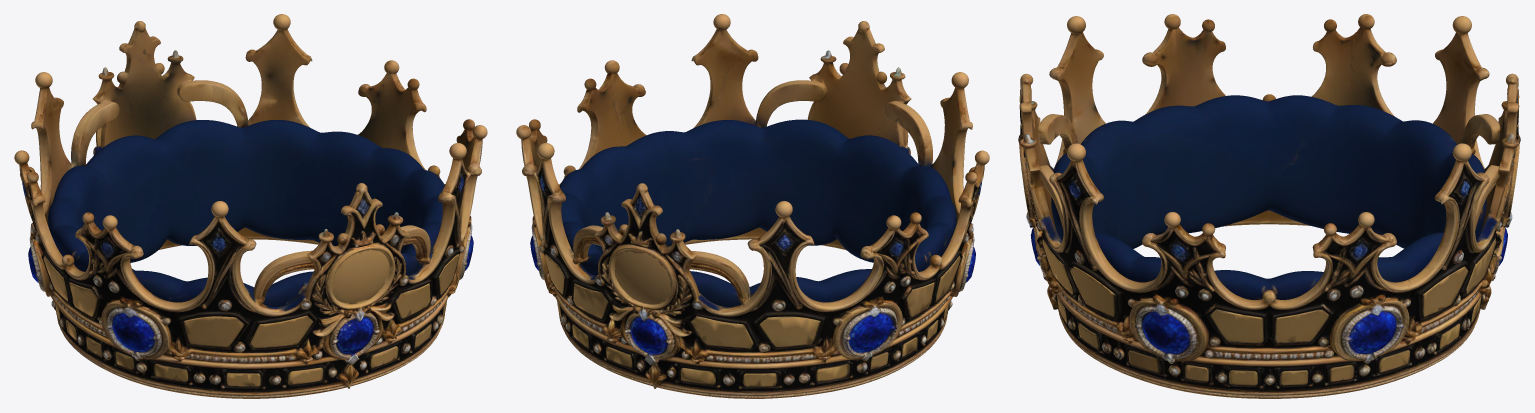
File: royal-crown.glb
3 renders of one model, left to right at view 1: azimuth 30°, elevation 25°; view 2: azimuth 150°, elevation 25°; view 3: azimuth 270°, elevation 25°, orthographic. The views are drawn at different scales.
Parts seen in each view (by area): view 1: node_0; view 2: node_0; view 3: node_0.
Boxes of the visible parts, x1,y1,x2,y2 form: node_0: (14,14,487,398); node_0: (516,14,989,398); node_0: (1018,14,1520,398).
Size of the model in its own units: 1.07 by 0.5613 by 1.08.
1 material, 1 textured.
